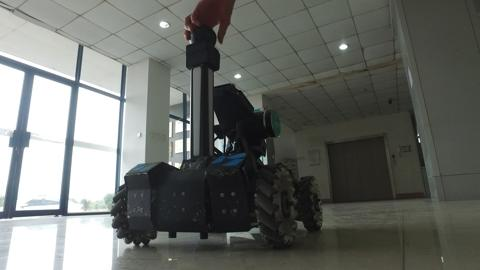chariot: (96, 20, 338, 253)
